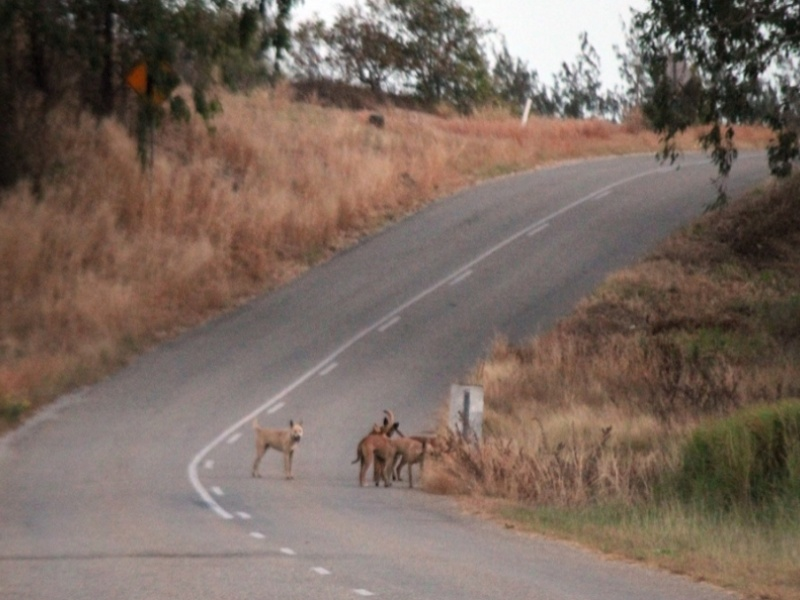dog: (243, 409, 307, 486), (354, 430, 403, 491), (398, 428, 442, 489)
